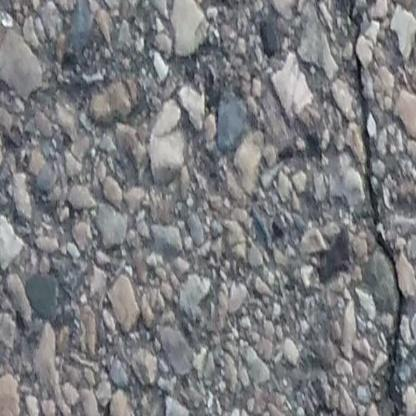Cracks: (345, 0, 412, 416)
